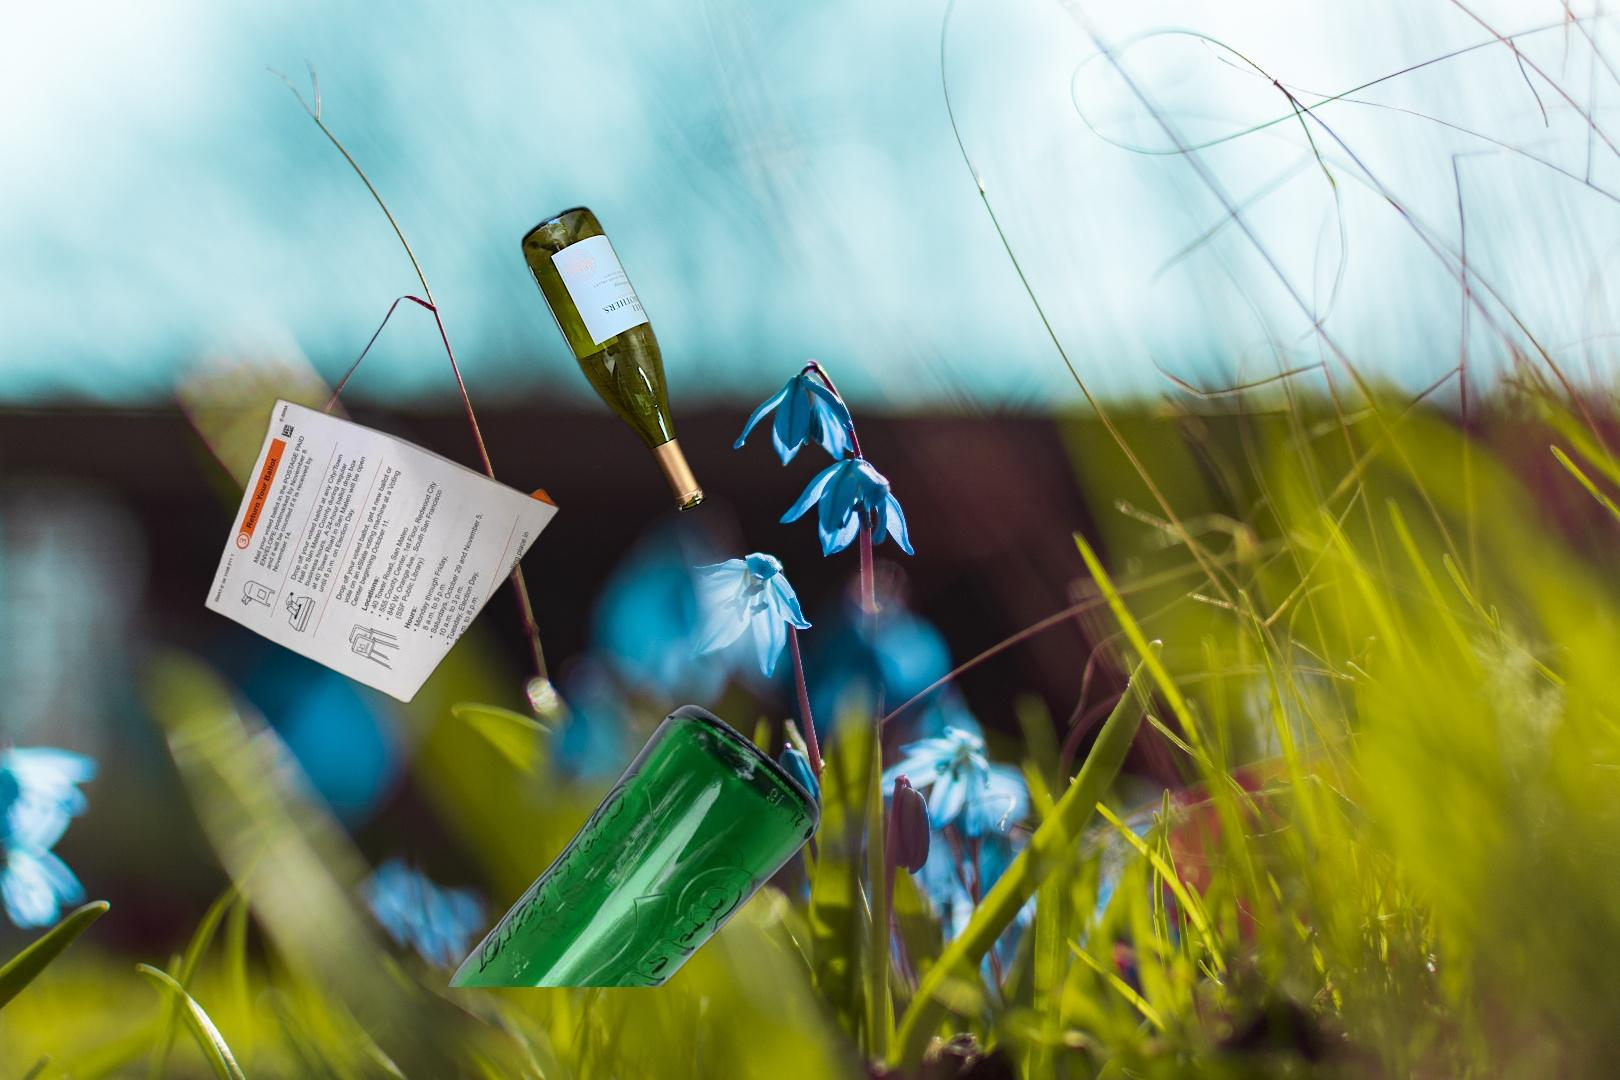glass: (444, 702, 824, 987), (517, 201, 710, 518)
paper: (199, 394, 564, 708)
